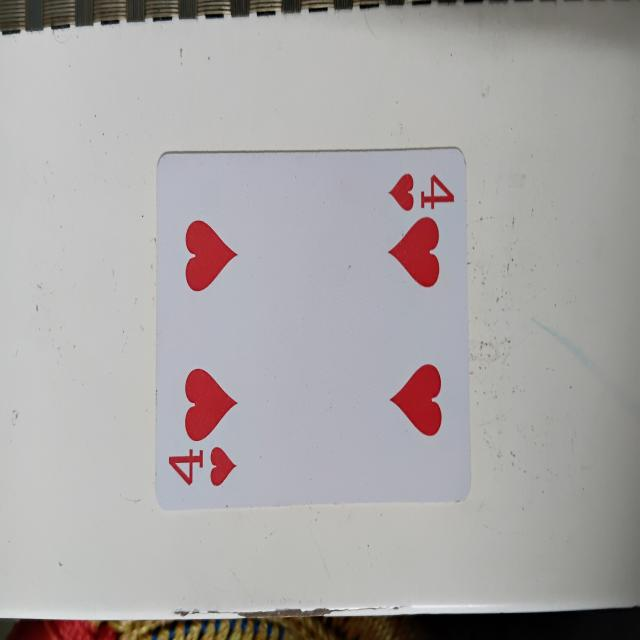4H: (156, 146, 472, 499)
